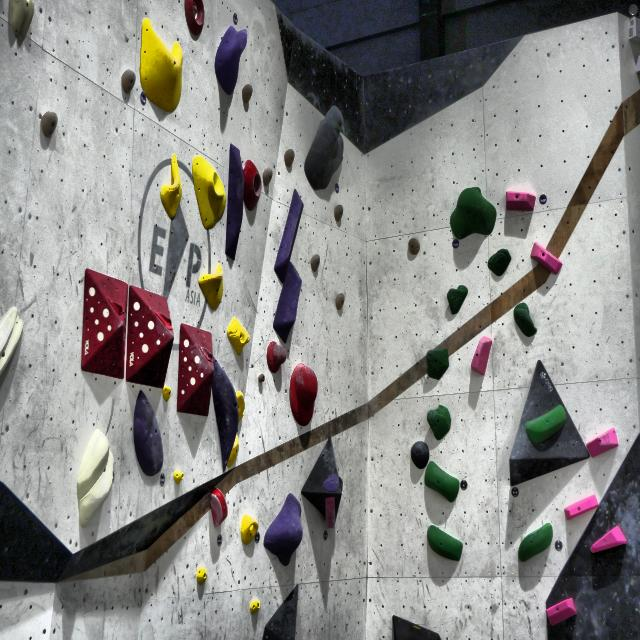Hold: (139, 20, 185, 120), (77, 426, 116, 528), (269, 188, 307, 282), (264, 491, 301, 574), (273, 263, 312, 339), (449, 185, 498, 242), (132, 390, 163, 479), (215, 20, 249, 96), (194, 148, 223, 228), (226, 140, 244, 266), (523, 402, 565, 452), (516, 517, 557, 565), (291, 363, 320, 430), (158, 154, 182, 224), (5, 0, 39, 49), (424, 522, 464, 563), (0, 302, 23, 372), (584, 418, 619, 460), (531, 238, 566, 279), (425, 460, 459, 502), (199, 262, 227, 312), (544, 590, 580, 628), (424, 405, 458, 441), (424, 348, 456, 386), (593, 524, 628, 556), (512, 297, 538, 338), (243, 155, 262, 211), (182, 0, 205, 46), (562, 491, 598, 519), (485, 250, 514, 280), (228, 316, 249, 356), (208, 486, 228, 528), (469, 335, 491, 373), (445, 283, 468, 318), (503, 191, 538, 213), (404, 438, 428, 468), (264, 344, 290, 371), (239, 512, 260, 544), (110, 288, 127, 320), (152, 309, 172, 333), (194, 342, 214, 362), (324, 472, 341, 494), (194, 566, 209, 586), (169, 470, 185, 483), (159, 388, 172, 403), (249, 602, 262, 615)
